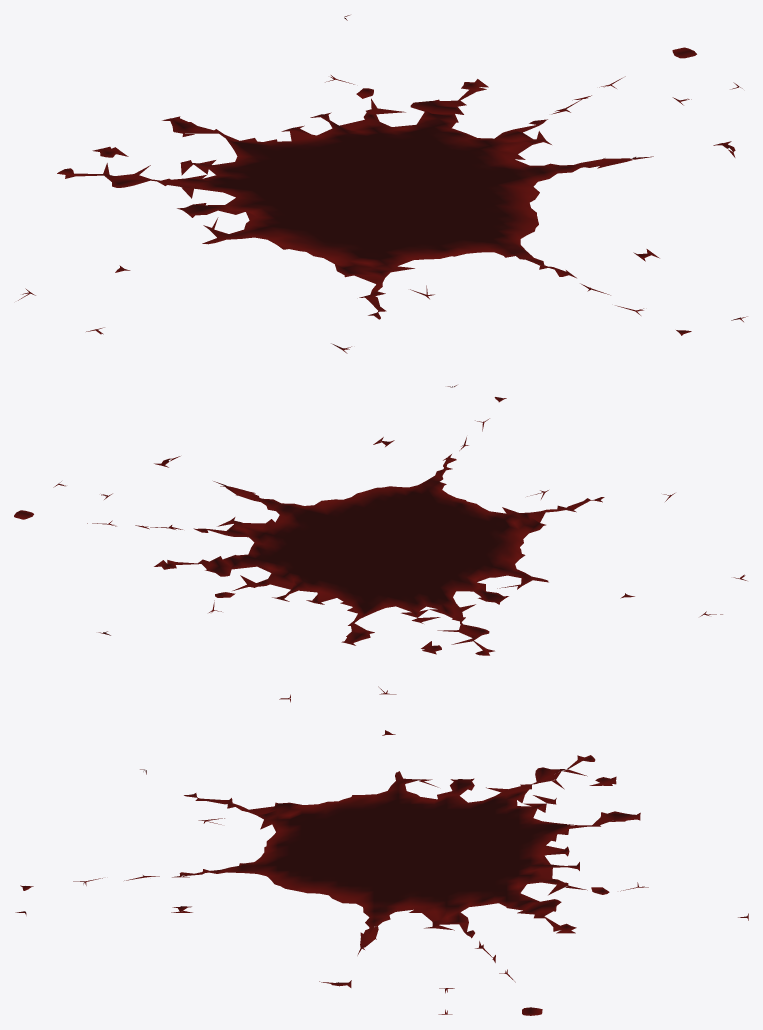
Rendered from blood_floor_b_xlo.glb.
3 views of the same model, one above another, from view 1: azimuth 30°, elevation 25°; view 2: azimuth 150°, elevation 25°; view 3: azimuth 270°, elevation 25° (orthographic). The views are drawn at different scales.
Visible parts, largest first — view 1: blood_floor_b; view 2: blood_floor_b; view 3: blood_floor_b.
Boxes of the visible parts, x1,y1,x2,y2 form: blood_floor_b: (18, 15, 747, 353); blood_floor_b: (14, 385, 746, 655); blood_floor_b: (15, 686, 748, 1015).
Size of the model in its own units: 2.22 by 0.004 by 2.08.
